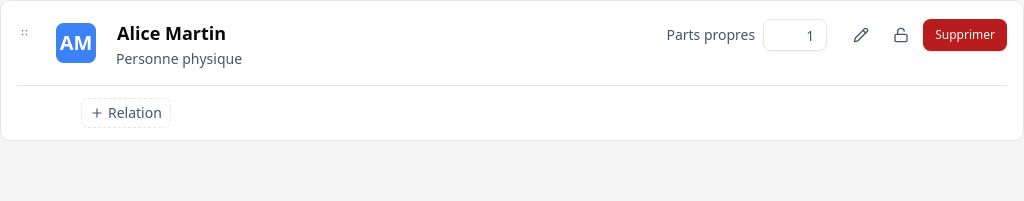
EntityItem : relations › crée la relation dès le choix de l'entité quand un seul lien est possible
Click the button "Relation": {"x": 126, "y": 113} top-left (81, 98), bottom-right (171, 128)
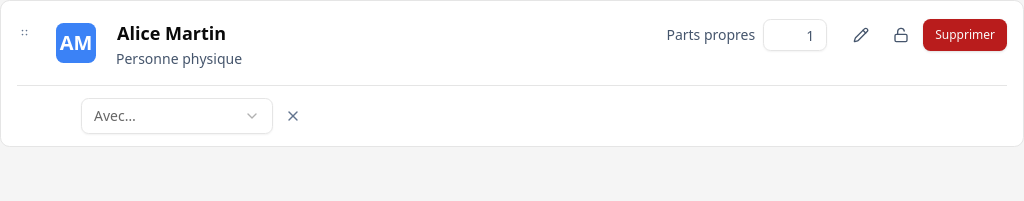
Click the dropdown named "Avec qui": {"x": 177, "y": 116} top-left (81, 98), bottom-right (273, 134)
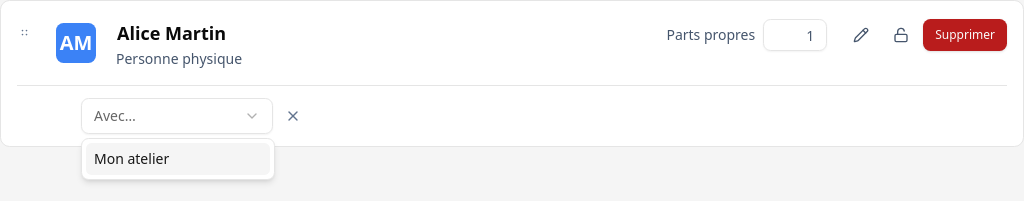
Click the option "Mon atelier": {"x": 178, "y": 159} top-left (86, 143), bottom-right (270, 175)
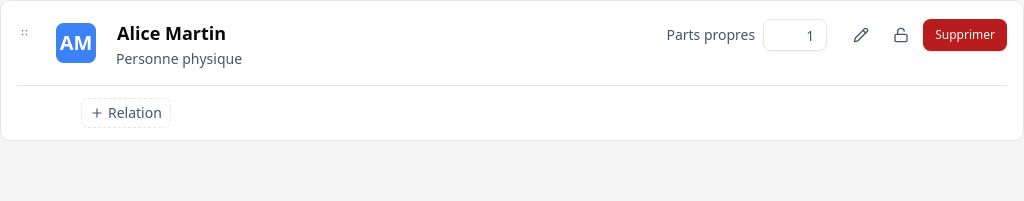
expect the button "Relation" is shown: met, box top-left (81, 98), bottom-right (171, 128)
